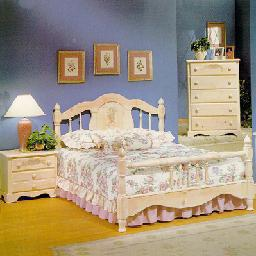Armario: (190, 62, 237, 132)
Cama: (57, 120, 255, 217)
